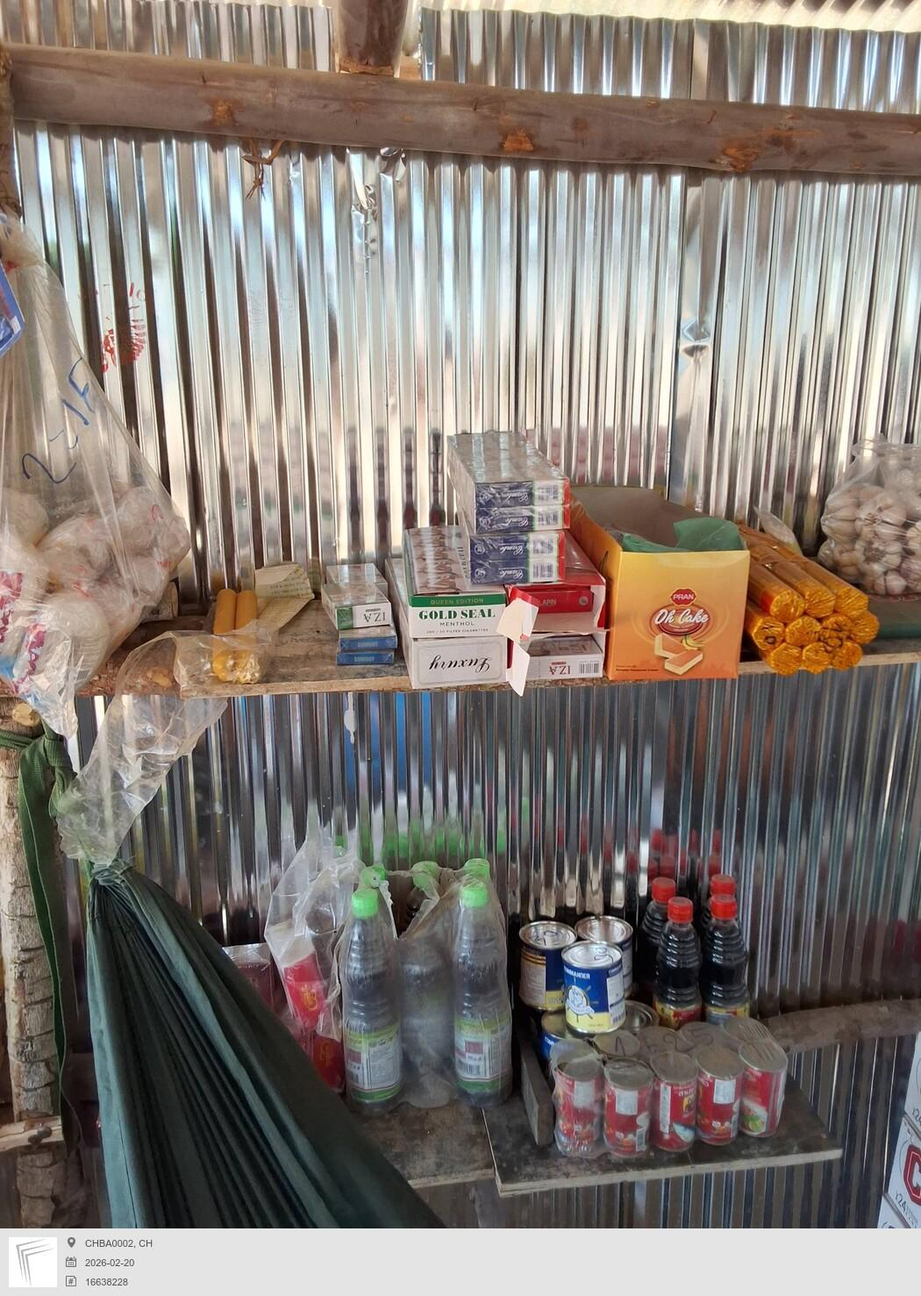cigarette_pack: (451, 425, 574, 532), (458, 535, 565, 595), (405, 642, 512, 690), (512, 586, 606, 635), (328, 565, 393, 632), (507, 639, 604, 683), (413, 594, 507, 637), (338, 648, 397, 665), (340, 635, 403, 650)
